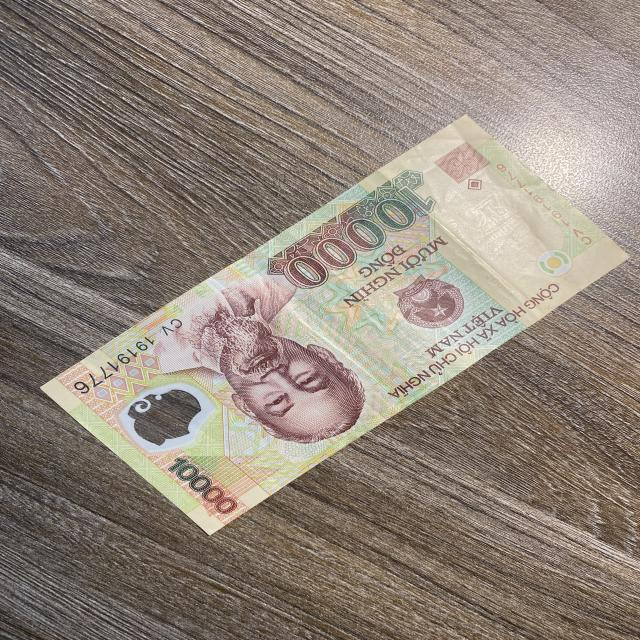10 000 VND: (34, 111, 634, 539)
